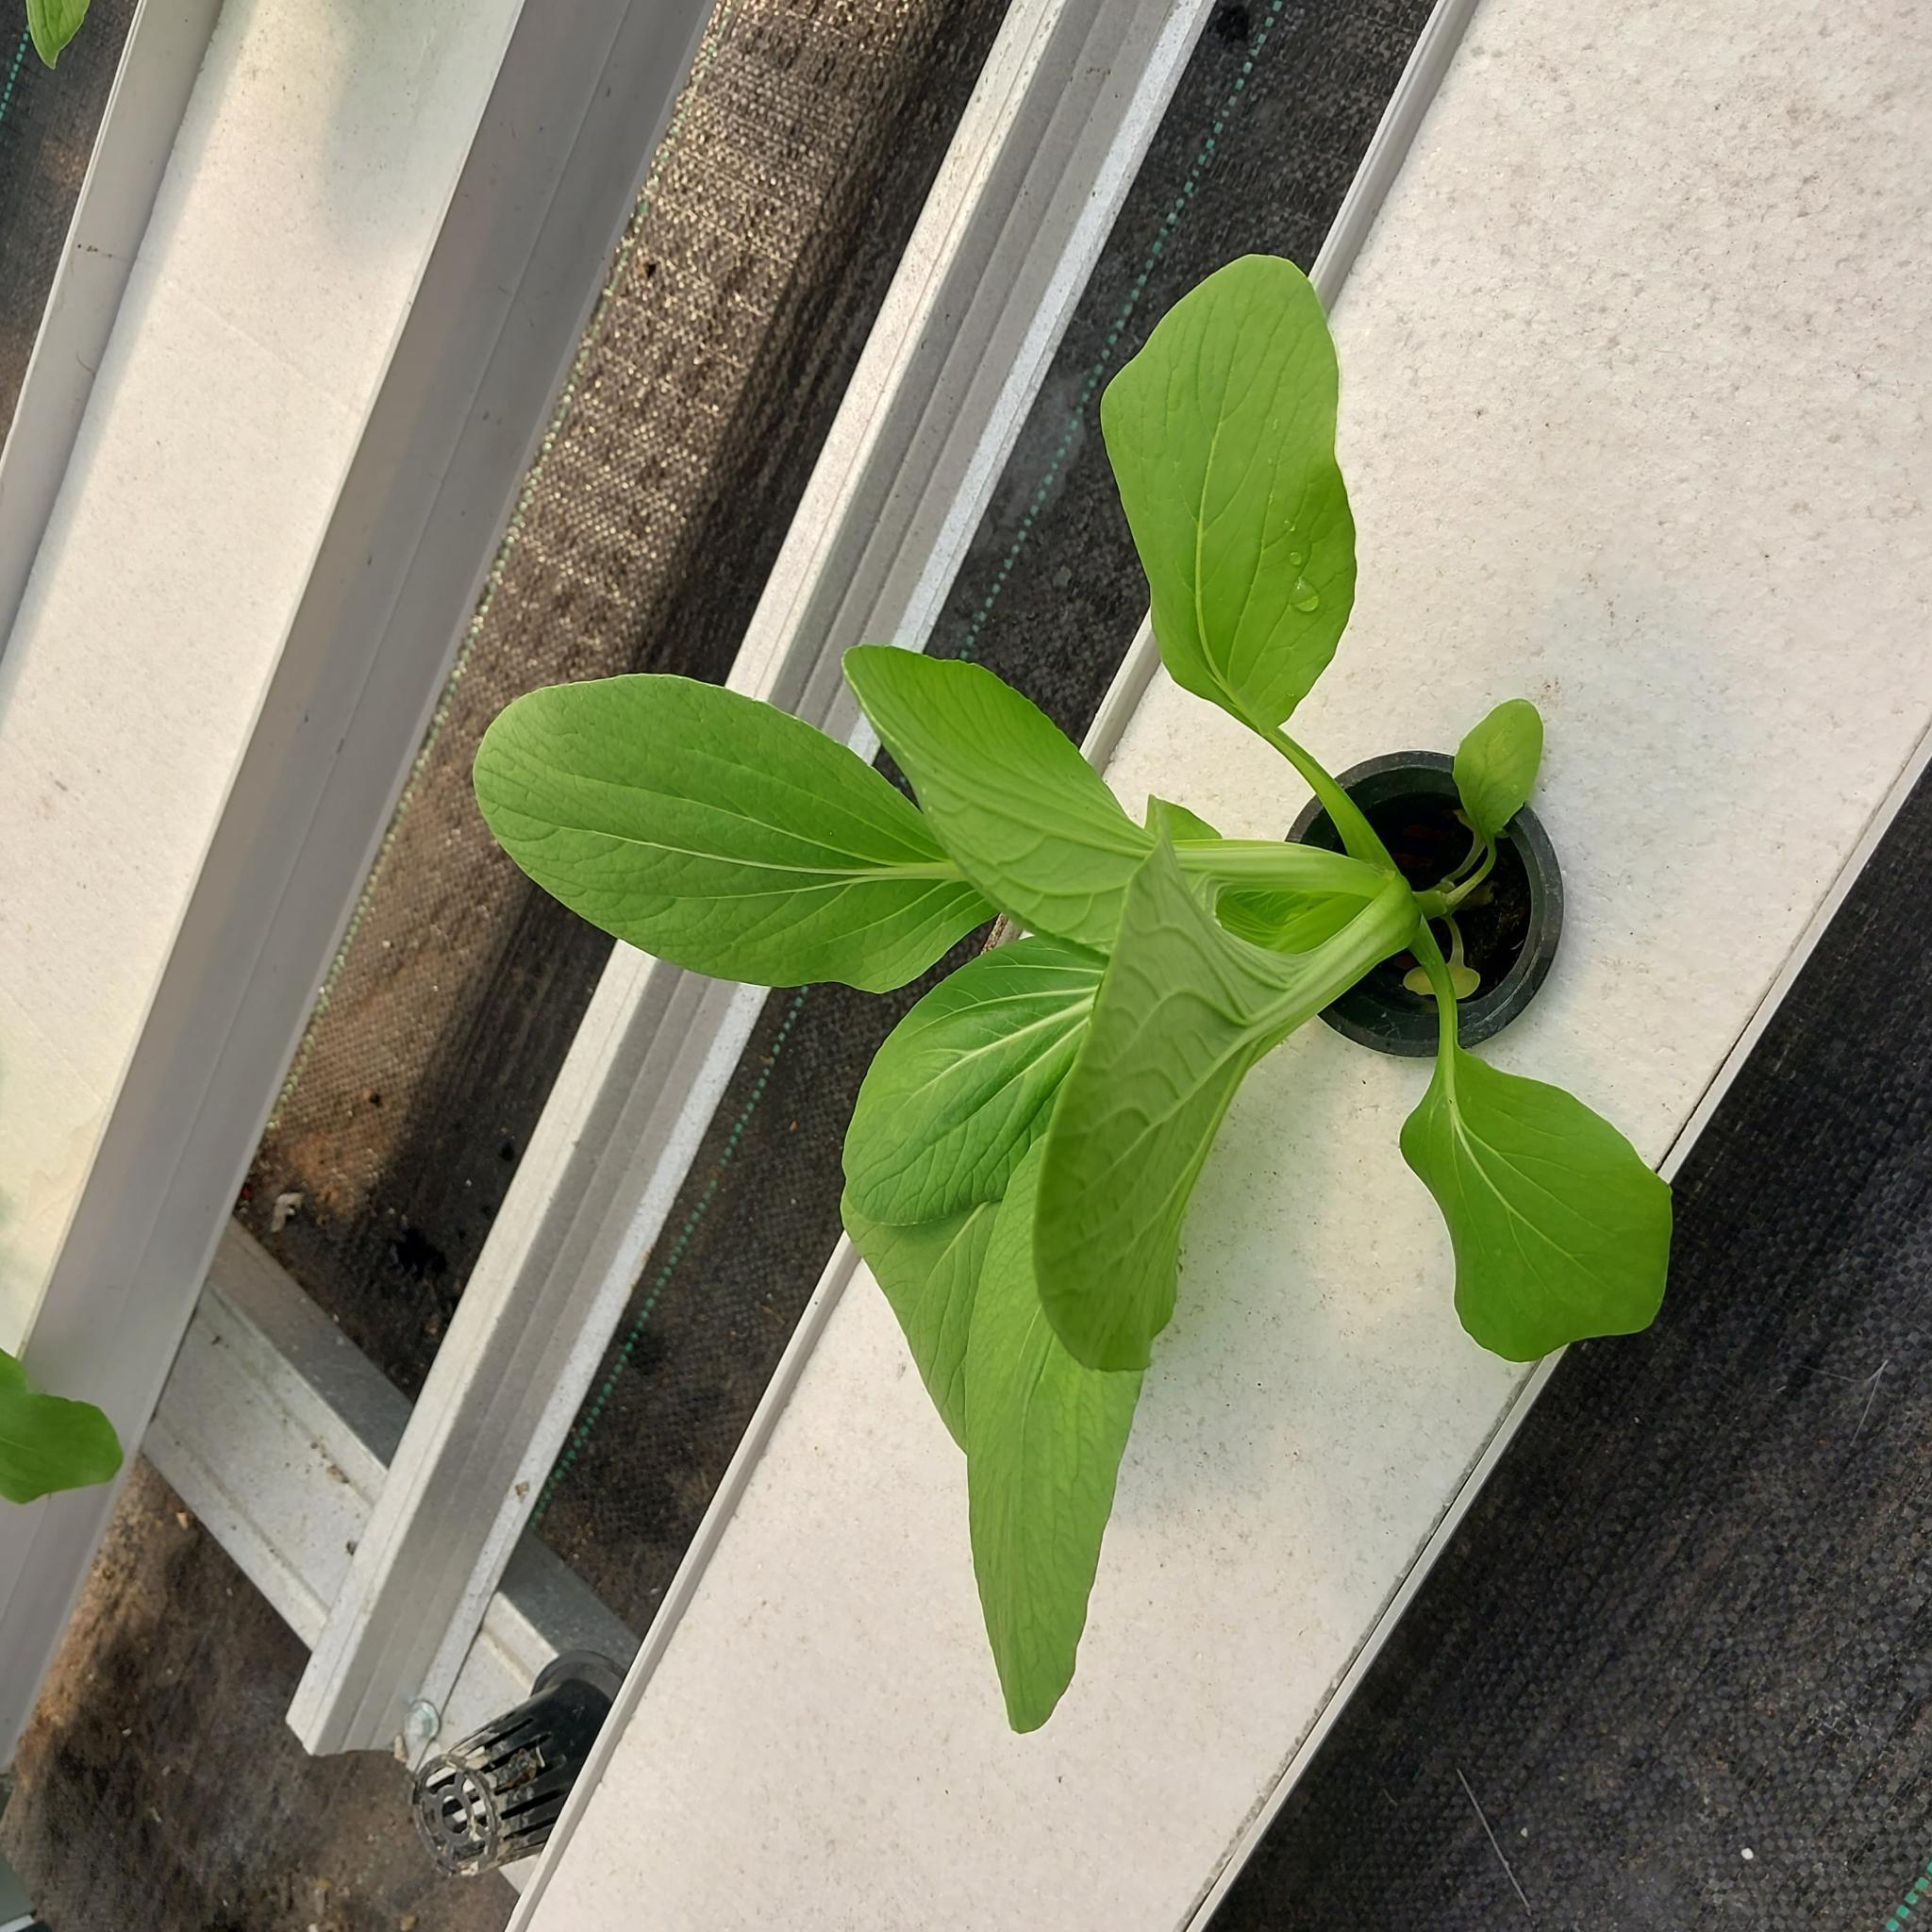Healthy-Pechay: (840, 954, 1148, 1746), (1040, 810, 1417, 1357), (464, 672, 989, 987), (1104, 246, 1359, 763), (853, 648, 1185, 952), (1403, 1024, 1677, 1362), (840, 943, 1085, 1249), (1251, 713, 1433, 927), (1449, 699, 1545, 863), (1399, 909, 1470, 1037)
